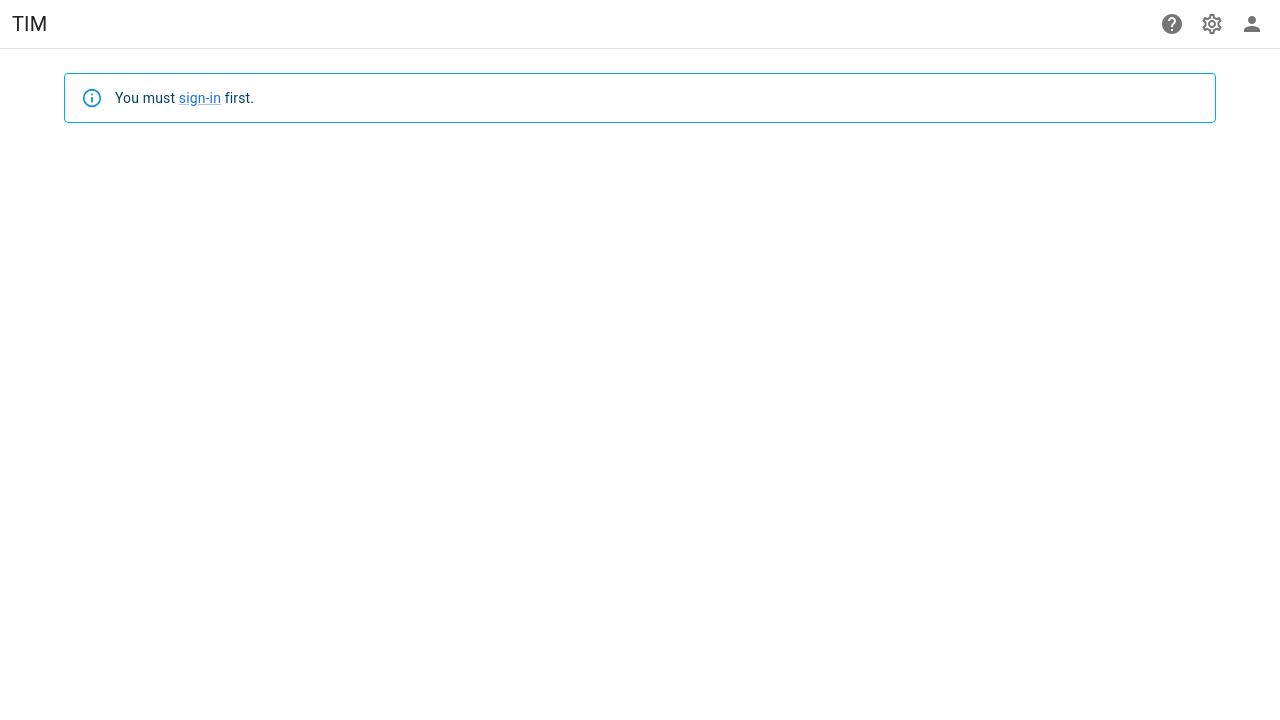
Test: AppShell / AuthGate › signed out: shows the sign-in prompt and no routes
This screenshot has width=1280, height=720.
Expected: the text "You must sign-in first." is shown, [115, 88, 254, 108]
Expected: the text "routes ok" is not shown
Click the button "sign-in": (200, 98) [179, 88, 221, 108]
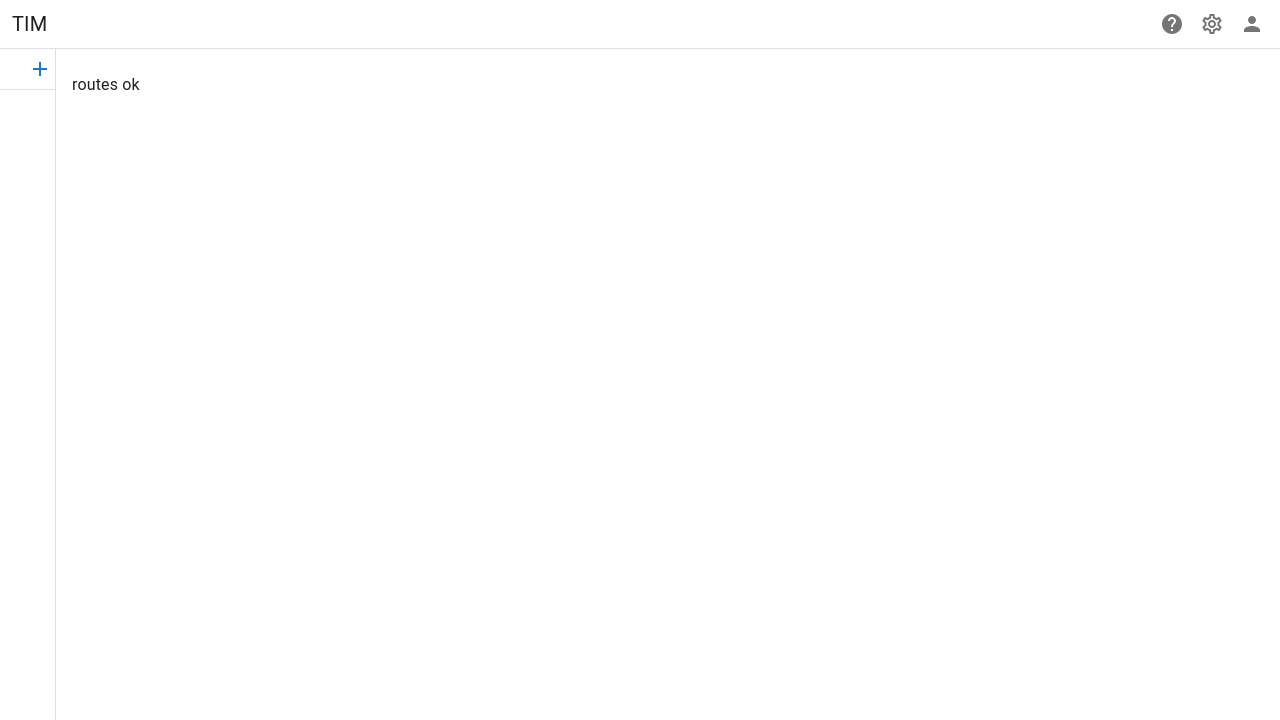
Expected: the text "routes ok" is shown, [72, 75, 140, 94]
